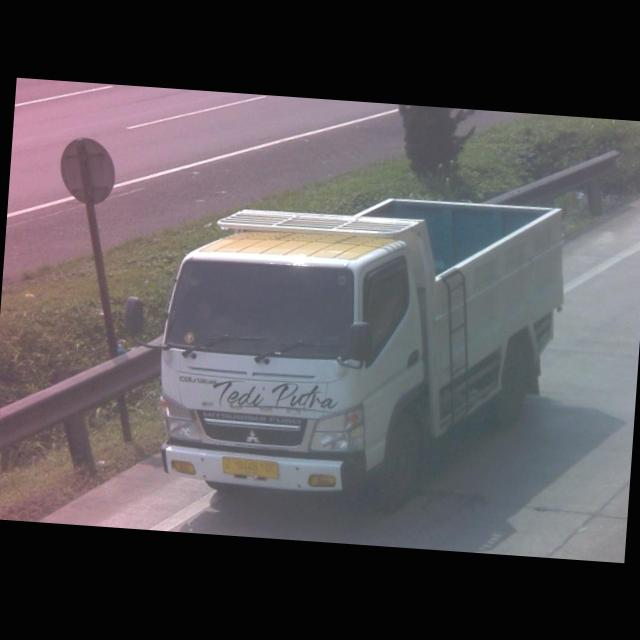plate: (218, 454, 280, 482)
